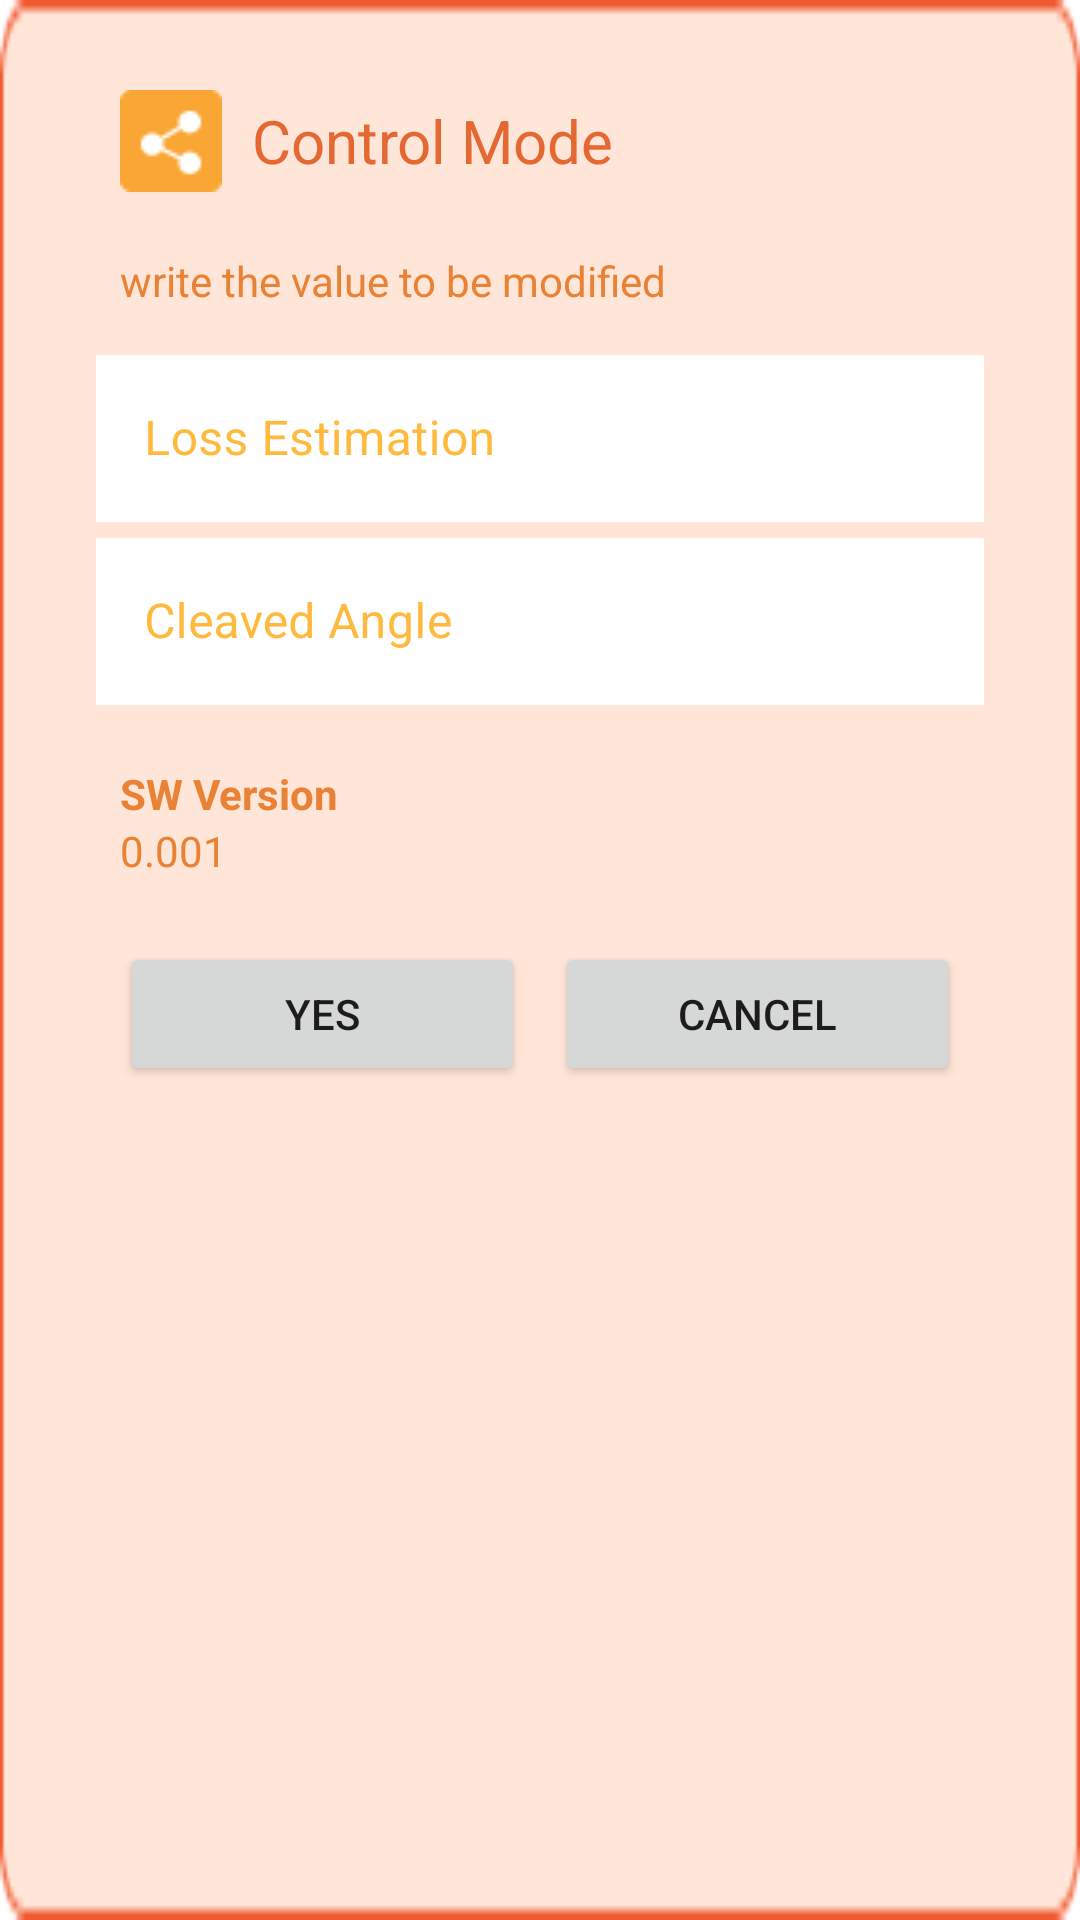

Screen size 1080×1920. Icon name, then its box in pixels as {"x1": x1, "y1": y1, "x2": x2, "y2": y2}:
share: {"x1": 120, "y1": 90, "x2": 222, "y2": 192}
